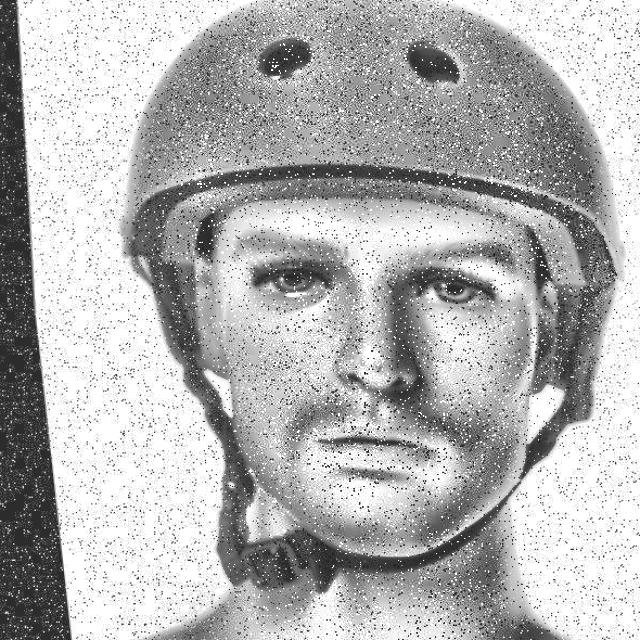Helmet: (68, 0, 640, 625)
